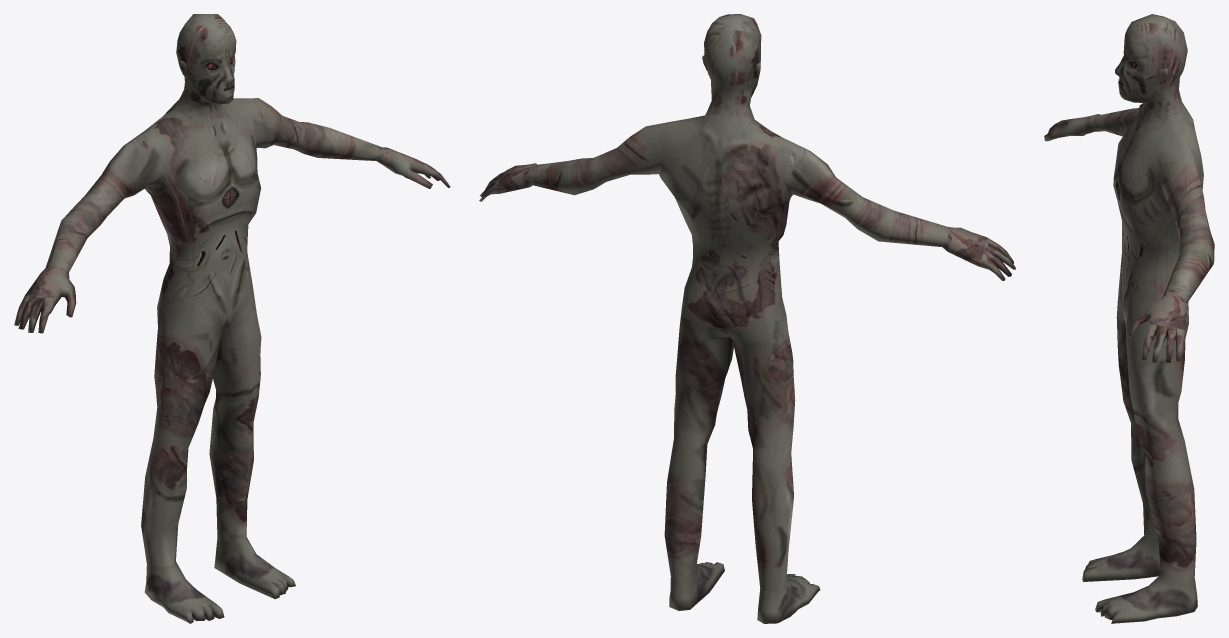
File: ZombieFixed.fbx
The picture shows the model from 3 angles, left to right: view 1: azimuth 30°, elevation 25°; view 2: azimuth 150°, elevation 25°; view 3: azimuth 270°, elevation 25°; orthographic projection. The views are drawn at different scales.
Parts seen in each view (by area): view 1: Zombie; view 2: Zombie; view 3: Zombie.
Part boxes in pixels (x1,y1,x2,y2): Zombie: (14,14,450,623); Zombie: (479,14,1015,623); Zombie: (1044,14,1214,623).
Bounding box in the file's own units: 150 × 175 × 46.98.
